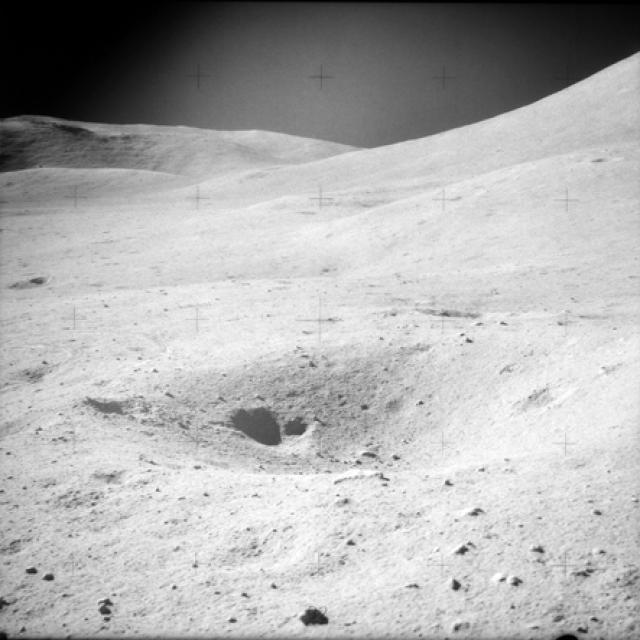crater: (142, 338, 481, 481), (15, 262, 382, 282)
rock: (292, 596, 330, 628)
